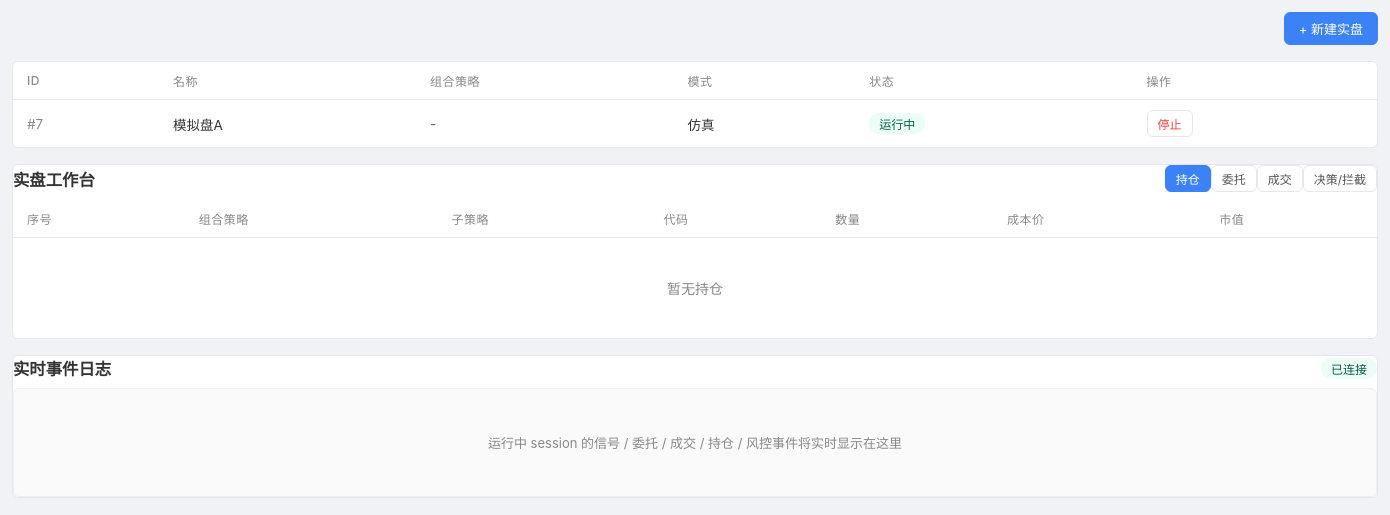
LiveSessions.vue SSE 事件日志面板 › 点停止 → 关闭事件流
Click the button "停止" at (1170, 124), box x1=1147 y1=110 x2=1193 y2=137
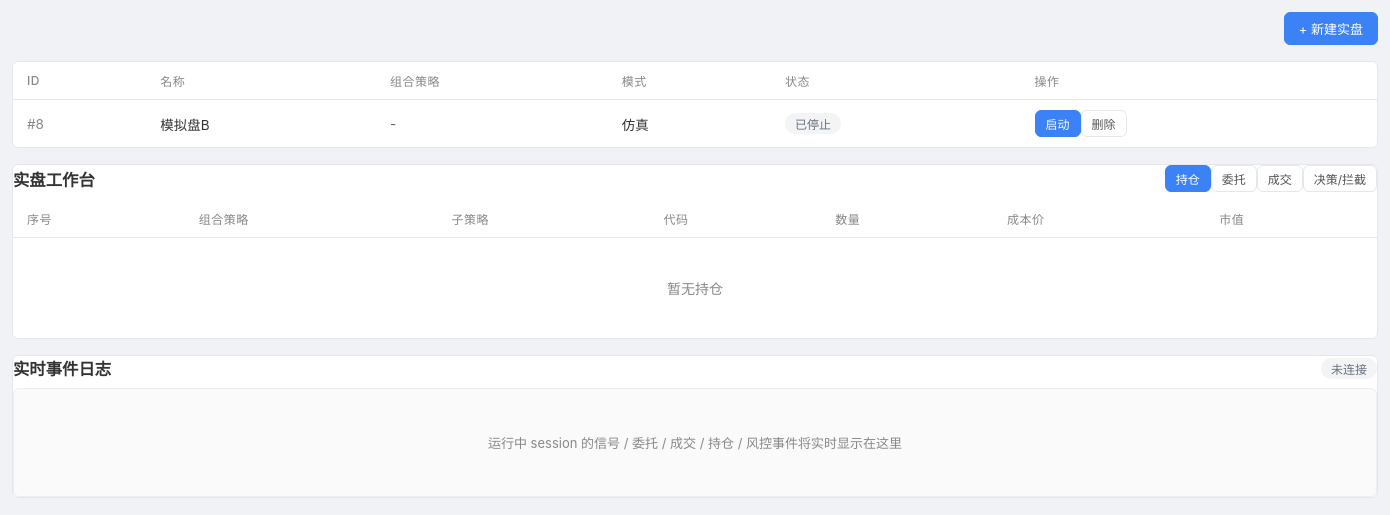
Result: the text "未连接" is shown at x1=1321 y1=358 x2=1377 y2=378
